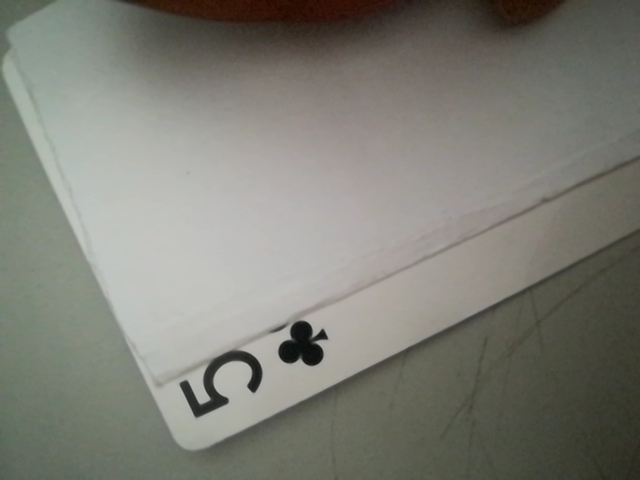mh 5: (172, 309, 338, 437)
